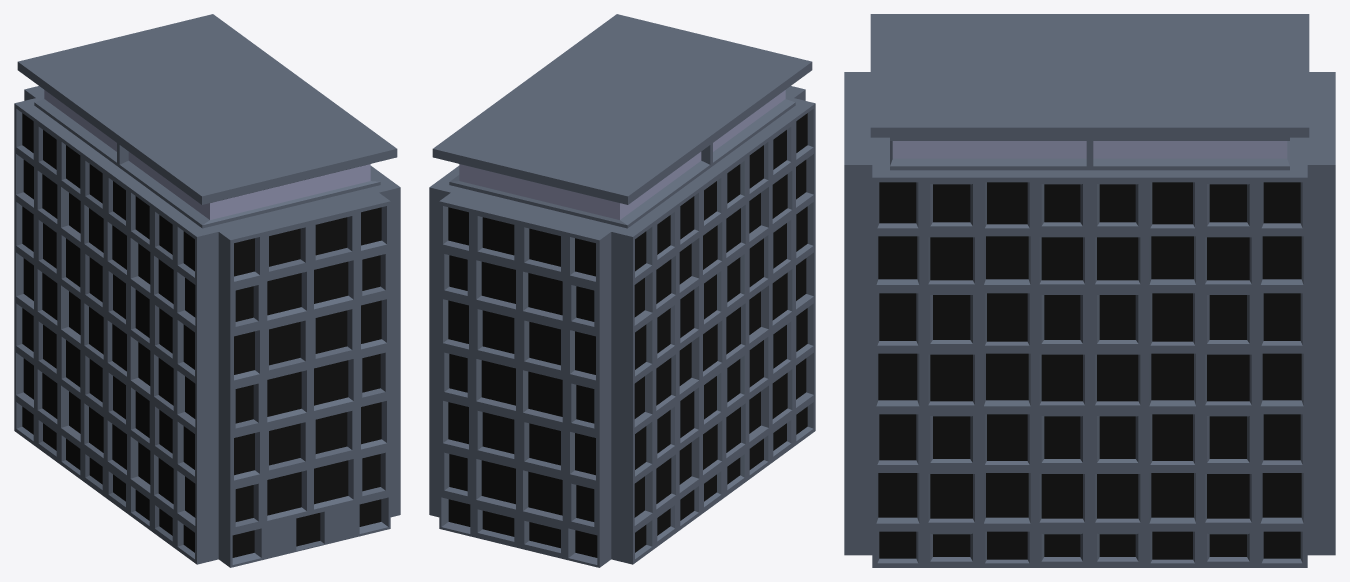
File: Building1.fbx
3 renders of one model, left to right at view 1: azimuth 30°, elevation 25°; view 2: azimuth 150°, elevation 25°; view 3: azimuth 270°, elevation 25°, orthographic. The views are drawn at different scales.
Visible parts, largest first — view 1: Box001; view 2: Box001; view 3: Box001.
Part boxes in pixels (x1,y1,x2,y2): Box001: [14, 14, 400, 567]; Box001: [429, 14, 815, 567]; Box001: [844, 14, 1335, 567].
Size of the model in its own units: 948 by 1636 by 1662.
